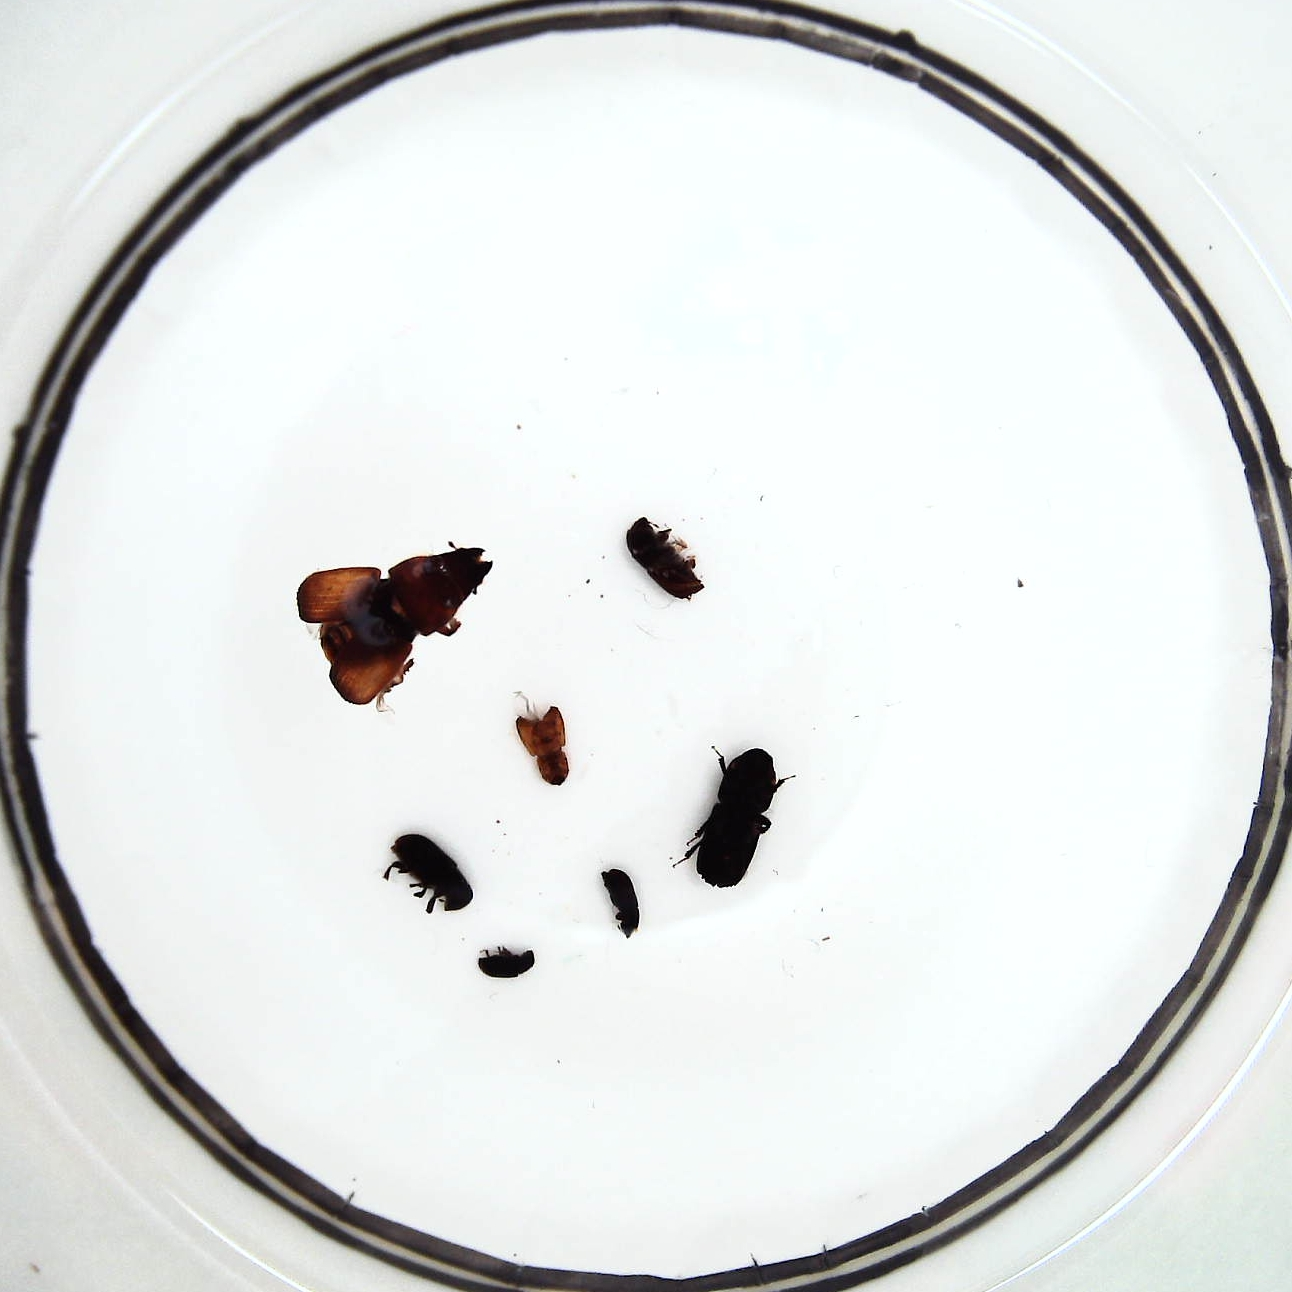Boerner: (693, 751, 779, 889)
Leconte: (301, 545, 496, 703)
Linnaeus: (624, 518, 702, 600)
acuminatus: (516, 704, 570, 784)
armandi: (390, 831, 471, 909)
coleoptera: (601, 864, 641, 942), (476, 948, 537, 978)
